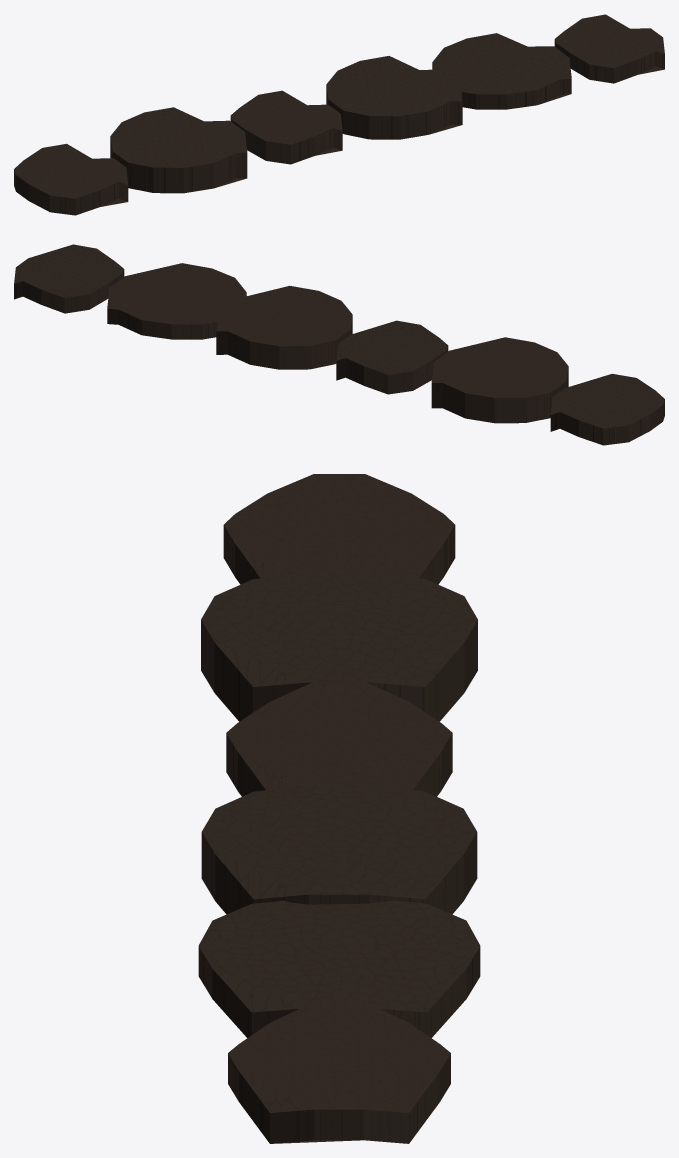
File: cliff_rocks.gltf
3 views of the same model, one above another, from view 1: azimuth 30°, elevation 25°; view 2: azimuth 150°, elevation 25°; view 3: azimuth 270°, elevation 25° (orthographic). The views are drawn at different scales.
Parts seen in each view (by area): view 1: CliffBlock_1, CliffBlock_3, CliffBlock_4, CliffBlock_0, CliffBlock_2, CliffBlock_5; view 2: CliffBlock_1, CliffBlock_3, CliffBlock_4, CliffBlock_0, CliffBlock_2, CliffBlock_5; view 3: CliffBlock_1, CliffBlock_3, CliffBlock_4, CliffBlock_5, CliffBlock_2, CliffBlock_0.
Part boxes in pixels (x1=…): CliffBlock_1: x1=110, y1=107, x2=247, y2=193; CliffBlock_3: x1=326, y1=56, x2=462, y2=139; CliffBlock_4: x1=432, y1=33, x2=571, y2=109; CliffBlock_0: x1=14, y1=143, x2=128, y2=215; CliffBlock_2: x1=230, y1=90, x2=342, y2=164; CliffBlock_5: x1=554, y1=14, x2=664, y2=83; CliffBlock_1: x1=431, y1=337, x2=568, y2=423; CliffBlock_3: x1=216, y1=285, x2=352, y2=369; CliffBlock_4: x1=107, y1=263, x2=246, y2=339; CliffBlock_0: x1=550, y1=373, x2=664, y2=445; CliffBlock_2: x1=336, y1=320, x2=448, y2=394; CliffBlock_5: x1=14, y1=244, x2=124, y2=313; CliffBlock_1: x1=201, y1=572, x2=477, y2=721; CliffBlock_3: x1=201, y1=784, x2=477, y2=914; CliffBlock_4: x1=198, y1=900, x2=480, y2=1037; CliffBlock_5: x1=228, y1=1001, x2=450, y2=1143; CliffBlock_2: x1=226, y1=681, x2=452, y2=796; CliffBlock_0: x1=223, y1=474, x2=455, y2=584.
Size of the model in its own units: 35.34 by 2 by 6.8.
Materials: 1 (1 with a texture image).
